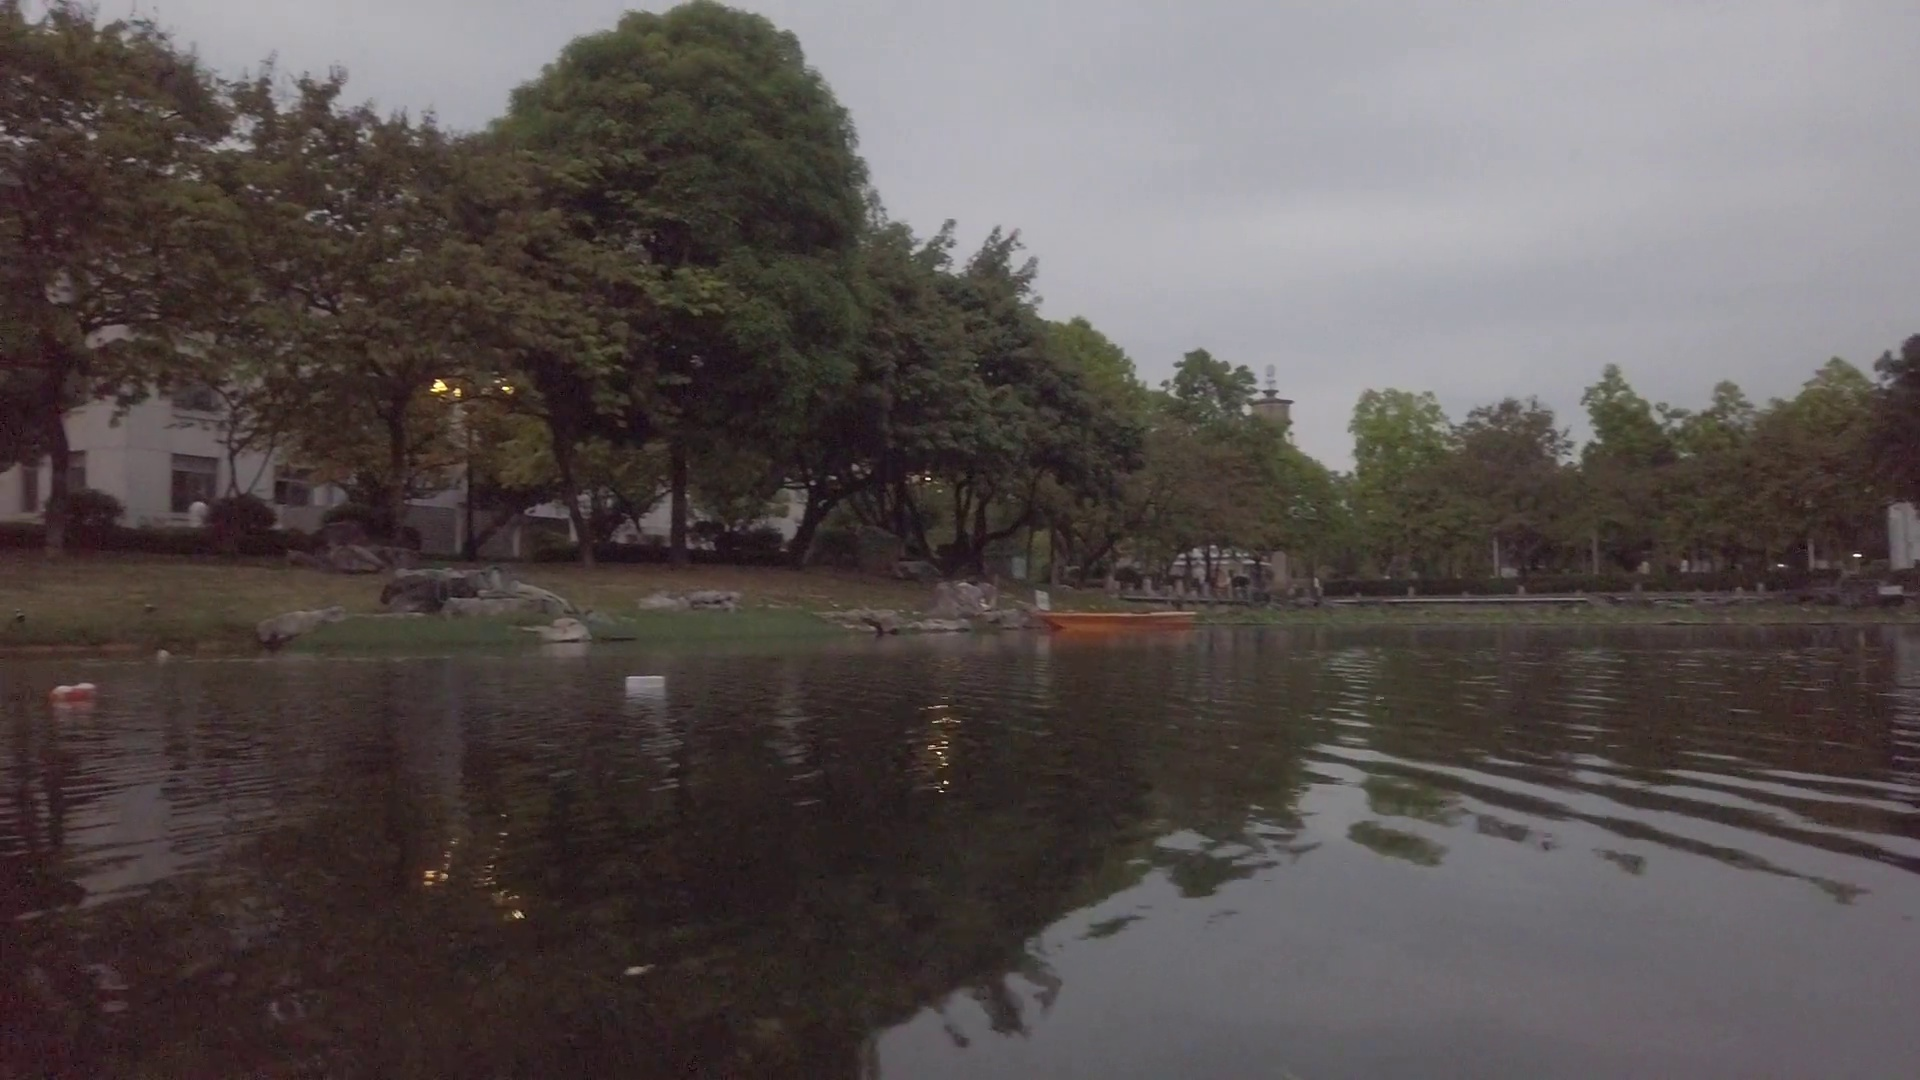bottle: (50, 683, 95, 702), (158, 647, 170, 659)
carton: (625, 673, 669, 694)
